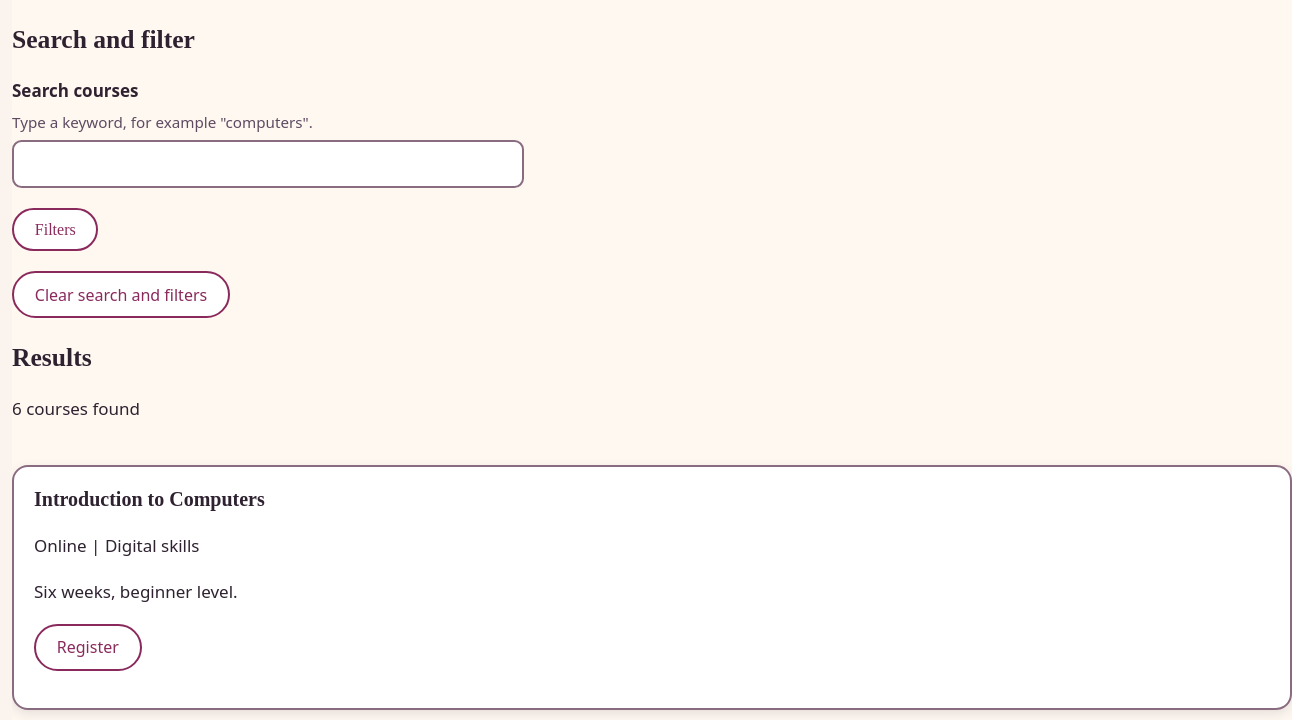
Scenario: CourseDirectory › updates the live count when searching
Type "comp" into the search field labelled "Search courses". click: (268, 164)
box: [12,140,524,188]
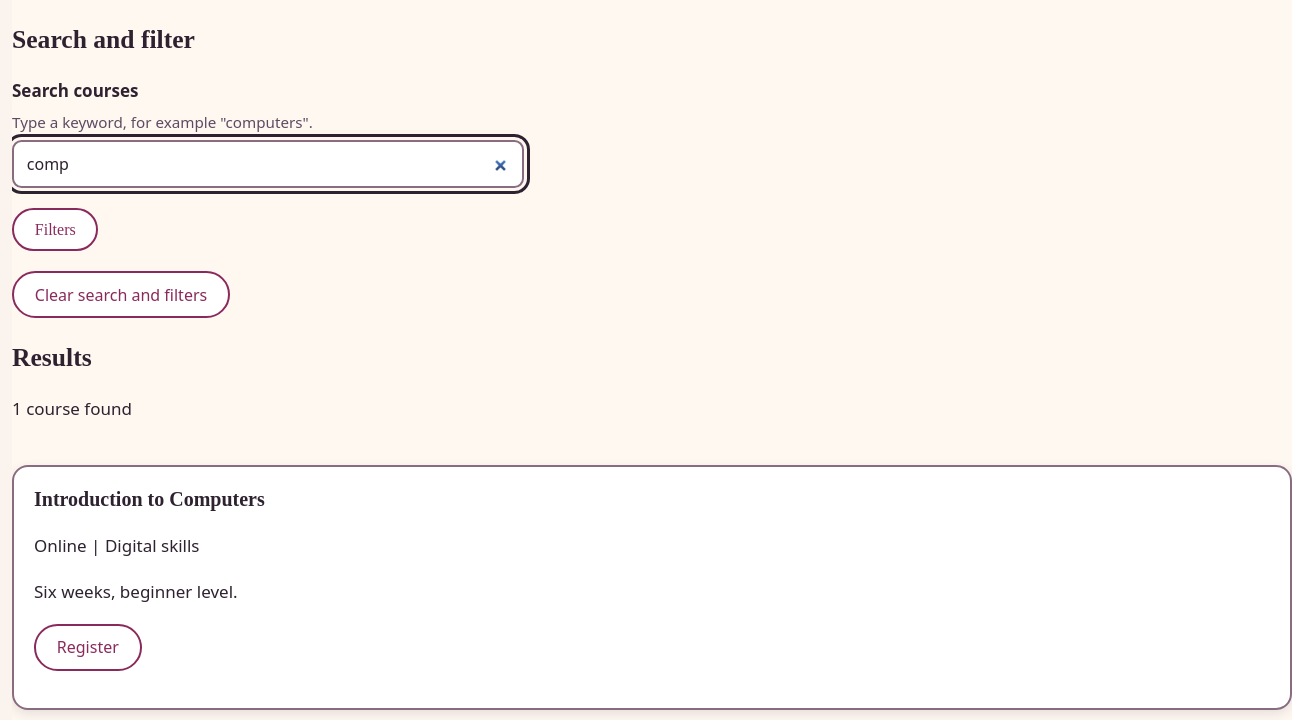
Expected: the message reads "1 course found", [12,397,132,420]
